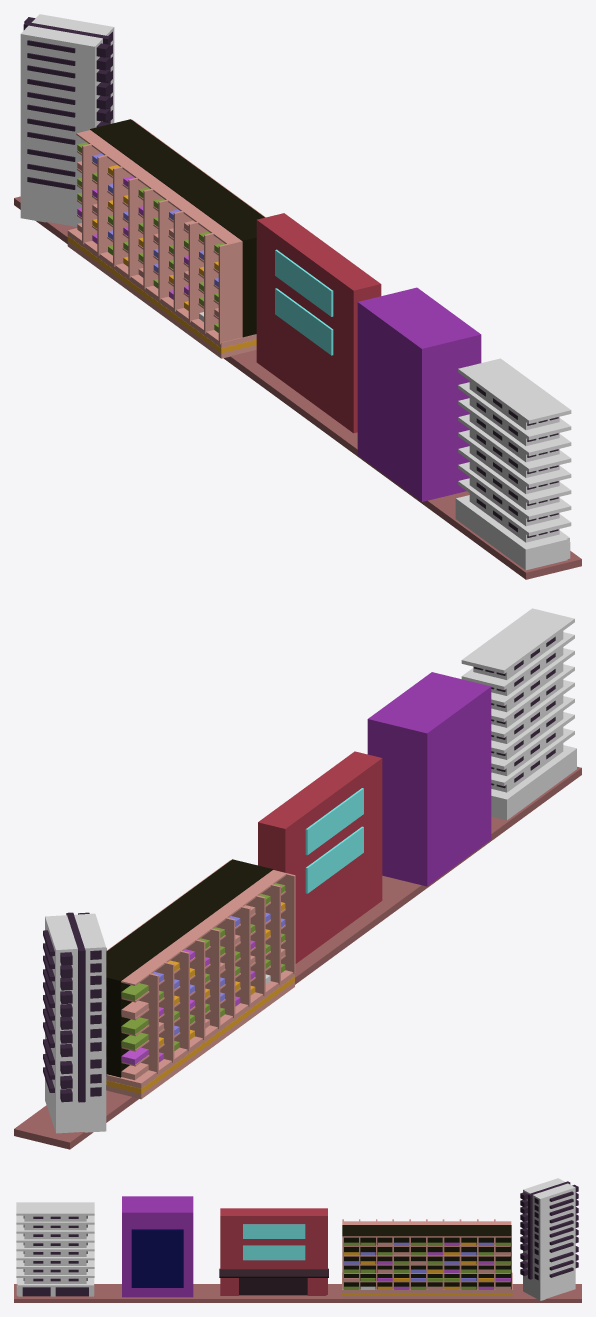
File: BuildingBlockD.glb
3 renders of one model, top to bottom at view 1: azimuth 30°, elevation 25°; view 2: azimuth 150°, elevation 25°; view 3: azimuth 270°, elevation 25°, orthographic. The views are drawn at different scales.
Parts seen in each view (by area): view 1: Cube.743, Cube.154, Cube.742, Cube.694, Cube.509, Cube.527, Cube.625, Cube.692, Cube.634, Cube.702, Cube.152, Cube.153 (+18 smaller); view 2: Cube.743, Cube.154, Cube.742, Cube.694, Cube.509, Cube.527, Cube.692, Cube.625, Cube.702, Cube.153, Cube.152, Cube.738 (+19 smaller); view 3: Cube.694, Cube.154, Cube.509, Cube.743, Cube.742, Cube.744, Cube.148, Cube.527, Cube.692, Cube.152, Cube.150, Cube.153 (+27 smaller).
Boxes of the visible parts, x1,y1,x2,y2 form: Cube.743: [357, 287, 481, 501]; Cube.154: [256, 213, 381, 433]; Cube.742: [20, 14, 114, 226]; Cube.694: [90, 119, 264, 337]; Cube.509: [14, 196, 581, 579]; Cube.527: [458, 358, 571, 423]; Cube.625: [455, 495, 567, 570]; Cube.692: [76, 119, 265, 243]; Cube.634: [218, 240, 242, 344]; Cube.702: [67, 228, 256, 347]; Cube.152: [275, 288, 333, 355]; Cube.153: [275, 249, 333, 316]; Cube.743: [367, 672, 491, 886]; Cube.154: [258, 751, 382, 963]; Cube.742: [45, 913, 106, 1133]; Cube.694: [106, 859, 273, 1077]; Cube.509: [14, 766, 581, 1149]; Cube.527: [461, 608, 574, 673]; Cube.692: [107, 860, 285, 985]; Cube.625: [491, 745, 576, 820]; Cube.702: [106, 970, 294, 1088]; Cube.153: [305, 788, 363, 855]; Cube.152: [305, 826, 363, 893]; Cube.738: [66, 912, 85, 1102]; Cube.694: [342, 1225, 511, 1289]; Cube.154: [220, 1208, 327, 1294]; Cube.509: [14, 1284, 581, 1302]; Cube.743: [122, 1196, 193, 1297]; Cube.742: [523, 1178, 575, 1300]; Cube.744: [131, 1229, 183, 1287]; Cube.148: [239, 1278, 307, 1295]; Cube.527: [16, 1202, 94, 1215]; Cube.692: [343, 1221, 511, 1237]; Cube.152: [243, 1245, 305, 1260]; Cube.150: [219, 1268, 328, 1277]; Cube.153: [243, 1224, 305, 1238].
Bounding box in the file's own units: 39.2 × 92.13 × 449.
